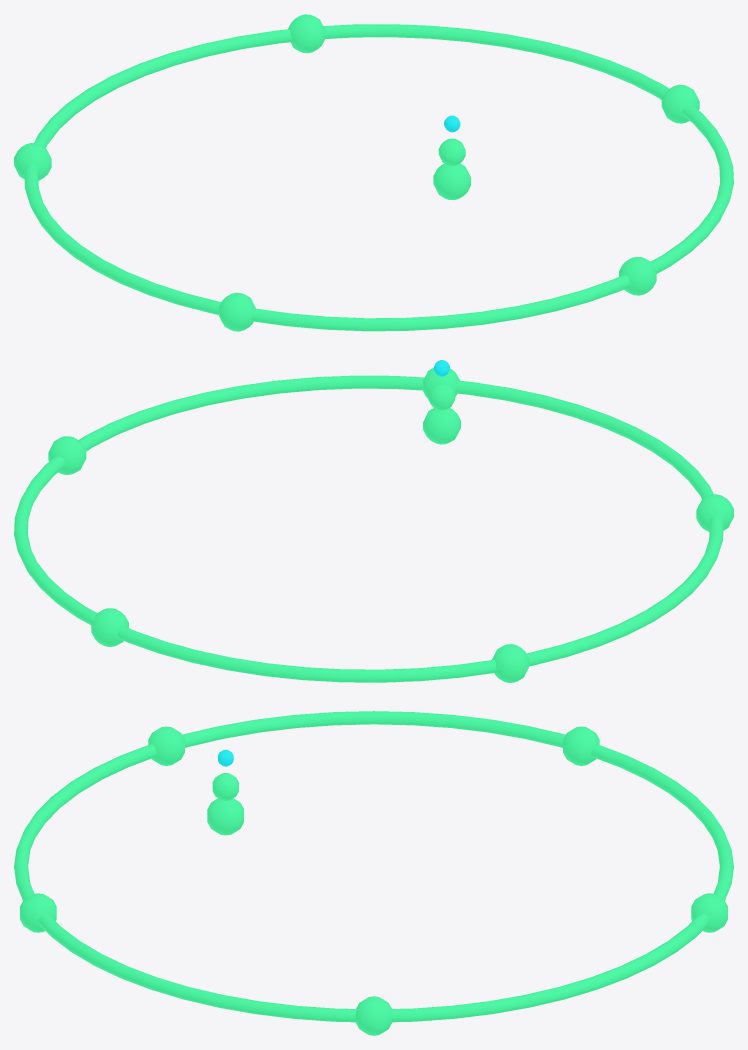
Rendered from avatar-verdejante-kit-explorador.glb.
The picture shows the model from 3 angles, top to bottom: view 1: azimuth 30°, elevation 25°; view 2: azimuth 150°, elevation 25°; view 3: azimuth 270°, elevation 25°; orthographic projection.
Visible parts, largest first — view 1: kit_verdejante_explorador_ring, kit_verdejante_explorador_progressNode4, kit_verdejante_explorador_progressNode2, kit_verdejante_explorador_bud0, kit_verdejante_explorador_progressNode1, kit_verdejante_explorador_progressNode0, kit_verdejante_explorador_progressNode3, kit_verdejante_explorador_bud1; view 2: kit_verdejante_explorador_ring, kit_verdejante_explorador_progressNode3, kit_verdejante_explorador_bud0, kit_verdejante_explorador_progressNode4, kit_verdejante_explorador_progressNode0, kit_verdejante_explorador_progressNode2, kit_verdejante_explorador_bud1, kit_verdejante_explorador_progressNode1; view 3: kit_verdejante_explorador_ring, kit_verdejante_explorador_progressNode0, kit_verdejante_explorador_bud0, kit_verdejante_explorador_progressNode2, kit_verdejante_explorador_progressNode3, kit_verdejante_explorador_progressNode1, kit_verdejante_explorador_progressNode4, kit_verdejante_explorador_bud1.
Part boxes in pixels (x1,y1,x2,y2): kit_verdejante_explorador_ring: (24,24,733,331); kit_verdejante_explorador_progressNode4: (288,14,325,53); kit_verdejante_explorador_progressNode2: (218,292,255,331); kit_verdejante_explorador_bud0: (433,163,470,200); kit_verdejante_explorador_progressNode1: (619,256,656,295); kit_verdejante_explorador_progressNode0: (661,84,699,123); kit_verdejante_explorador_progressNode3: (14,143,51,180); kit_verdejante_explorador_bud1: (438,138,465,166); kit_verdejante_explorador_ring: (14,375,723,682); kit_verdejante_explorador_progressNode3: (492,644,529,682); kit_verdejante_explorador_bud0: (423,408,460,444); kit_verdejante_explorador_progressNode4: (91,608,128,646); kit_verdejante_explorador_progressNode0: (48,436,86,474); kit_verdejante_explorador_progressNode2: (696,494,733,531); kit_verdejante_explorador_bud1: (428,383,455,410); kit_verdejante_explorador_progressNode1: (422,367,459,398); kit_verdejante_explorador_ring: (14,711,733,1022); kit_verdejante_explorador_progressNode0: (355,996,392,1035); kit_verdejante_explorador_bud0: (207,798,243,835); kit_verdejante_explorador_progressNode2: (148,726,184,765); kit_verdejante_explorador_progressNode3: (563,726,599,765); kit_verdejante_explorador_progressNode1: (20,893,56,932); kit_verdejante_explorador_progressNode4: (691,893,727,932); kit_verdejante_explorador_bud1: (212,773,238,800).
Size of the model in its own units: 1.04 by 0.21 by 1.02.
